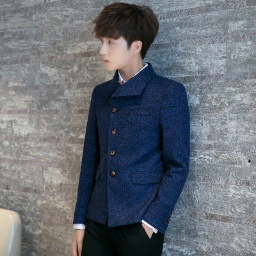face: (94, 4, 160, 71)
